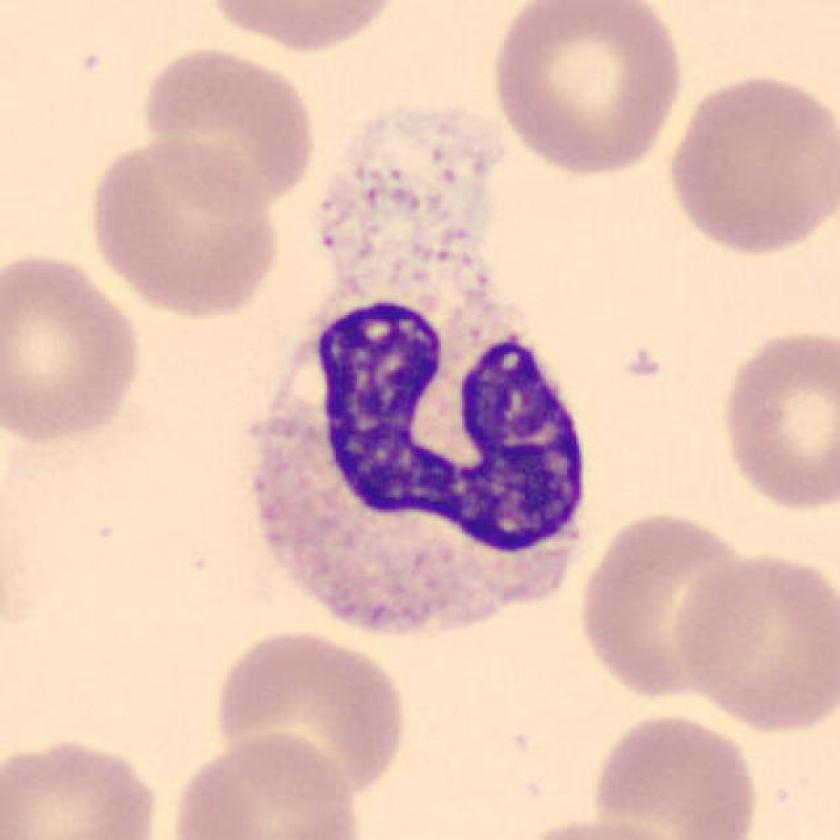neutrophil: (254, 116, 584, 633)
